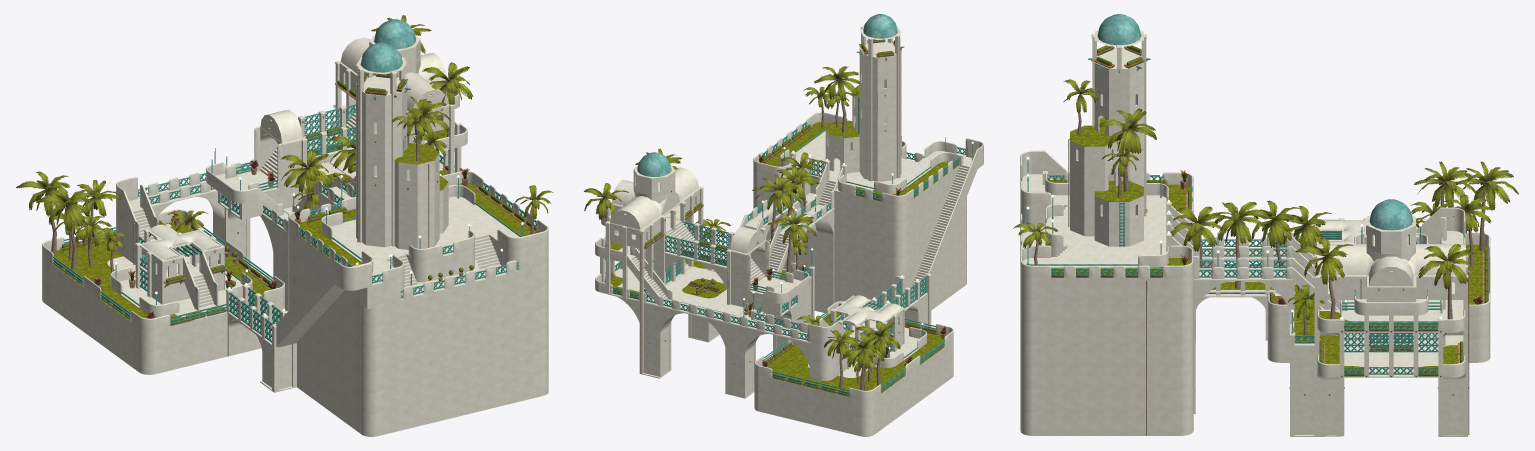
3 renders of one model, left to right at view 1: azimuth 30°, elevation 25°; view 2: azimuth 150°, elevation 25°; view 3: azimuth 270°, elevation 25°, orthographic. The views are drawn at different scales.
Parts seen in each view (by area): view 1: Object_12, Object_9, Object_10, Object_14, Object_15, Object_5, Object_8, Object_19, Object_20, Object_31, Object_26, Object_34 (+11 smaller); view 2: Object_12, Object_9, Object_14, Object_15, Object_10, Object_5, Object_19, Object_20, Object_8, Object_31, Object_7, Object_34 (+11 smaller); view 3: Object_12, Object_9, Object_10, Object_15, Object_14, Object_5, Object_8, Object_34, Object_19, Object_31, Object_26, Object_20 (+10 smaller).
Boxes of the visible parts, left/top/right/bottom form: Object_12: left=49, top=42, right=532, bottom=433; Object_9: left=135, top=57, right=532, bottom=403; Object_10: left=42, top=115, right=548, bottom=435; Object_14: left=49, top=33, right=540, bottom=327; Object_15: left=42, top=48, right=548, bottom=436; Object_5: left=16, top=15, right=553, bottom=252; Object_8: left=161, top=57, right=548, bottom=414; Object_19: left=53, top=129, right=538, bottom=326; Object_20: left=53, top=147, right=536, bottom=324; Object_31: left=138, top=75, right=455, bottom=342; Object_26: left=356, top=122, right=448, bottom=233; Object_34: left=281, top=136, right=355, bottom=213; Object_12: left=608, top=165, right=960, bottom=433; Object_9: left=600, top=25, right=969, bottom=390; Object_14: left=608, top=118, right=957, bottom=397; Object_15: left=595, top=112, right=966, bottom=436; Object_10: left=610, top=74, right=983, bottom=435; Object_5: left=584, top=66, right=900, bottom=372; Object_19: left=605, top=122, right=947, bottom=396; Object_20: left=603, top=121, right=965, bottom=395; Object_8: left=630, top=26, right=972, bottom=317; Object_31: left=605, top=40, right=927, bottom=363; Object_7: left=626, top=150, right=977, bottom=305; Object_34: left=752, top=152, right=825, bottom=255; Object_12: left=1045, top=205, right=1467, bottom=436; Object_9: left=1022, top=34, right=1468, bottom=435; Object_10: left=1020, top=94, right=1490, bottom=389; Object_15: left=1020, top=172, right=1490, bottom=435; Object_14: left=1020, top=172, right=1490, bottom=413; Object_5: left=1013, top=79, right=1518, bottom=319; Object_8: left=1020, top=30, right=1442, bottom=434; Object_34: left=1170, top=200, right=1331, bottom=252; Object_19: left=1051, top=184, right=1490, bottom=376; Object_31: left=1076, top=58, right=1469, bottom=394; Object_26: left=1070, top=95, right=1143, bottom=246; Object_20: left=1021, top=175, right=1489, bottom=343.
Size of the model in its own units: 42.35 by 36.05 by 46.48.
Materials: 23 (22 with a texture image).
